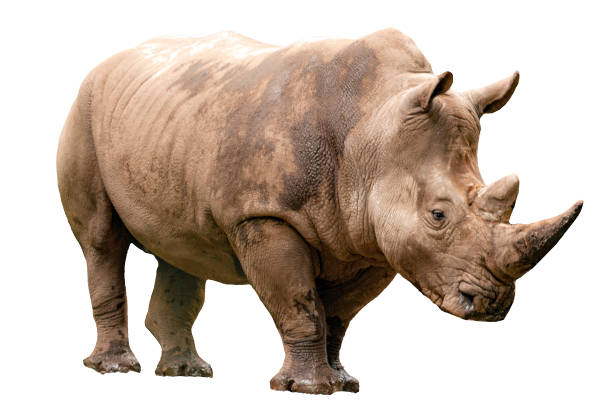rhino: (375, 55, 599, 339)
